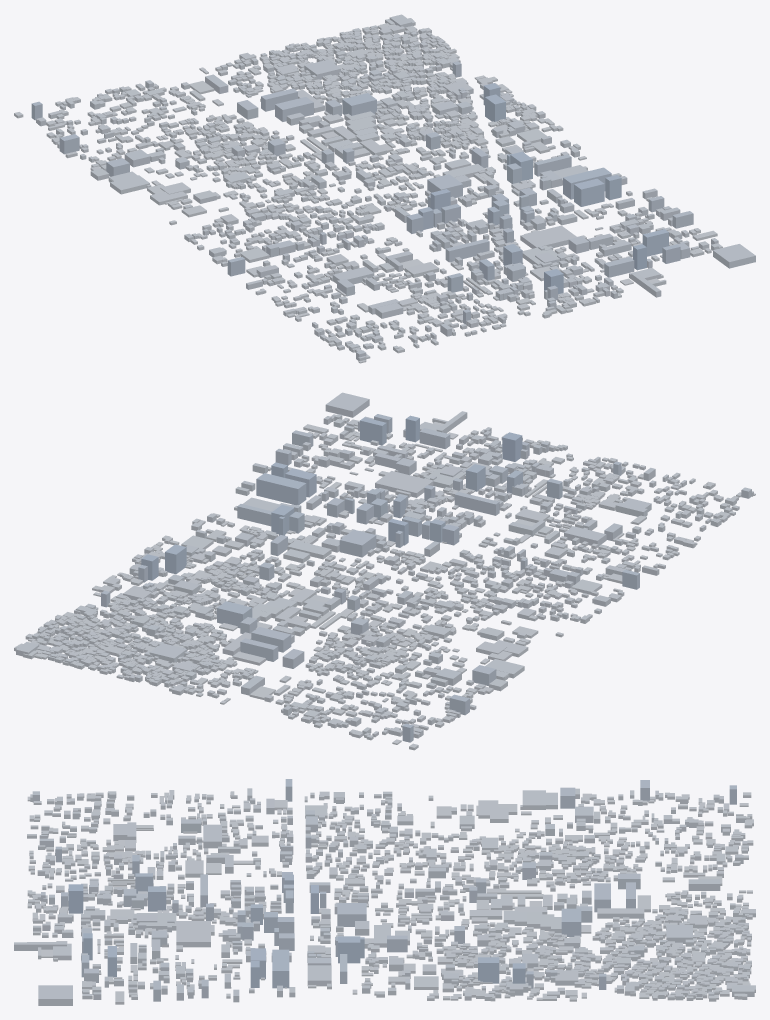
3 views of the same model, one above another, from view 1: azimuth 30°, elevation 25°; view 2: azimuth 150°, elevation 25°; view 3: azimuth 270°, elevation 25° (orthographic). The views are drawn at different scales.
Size of the model in its own units: 1043 by 51.63 by 1538.
